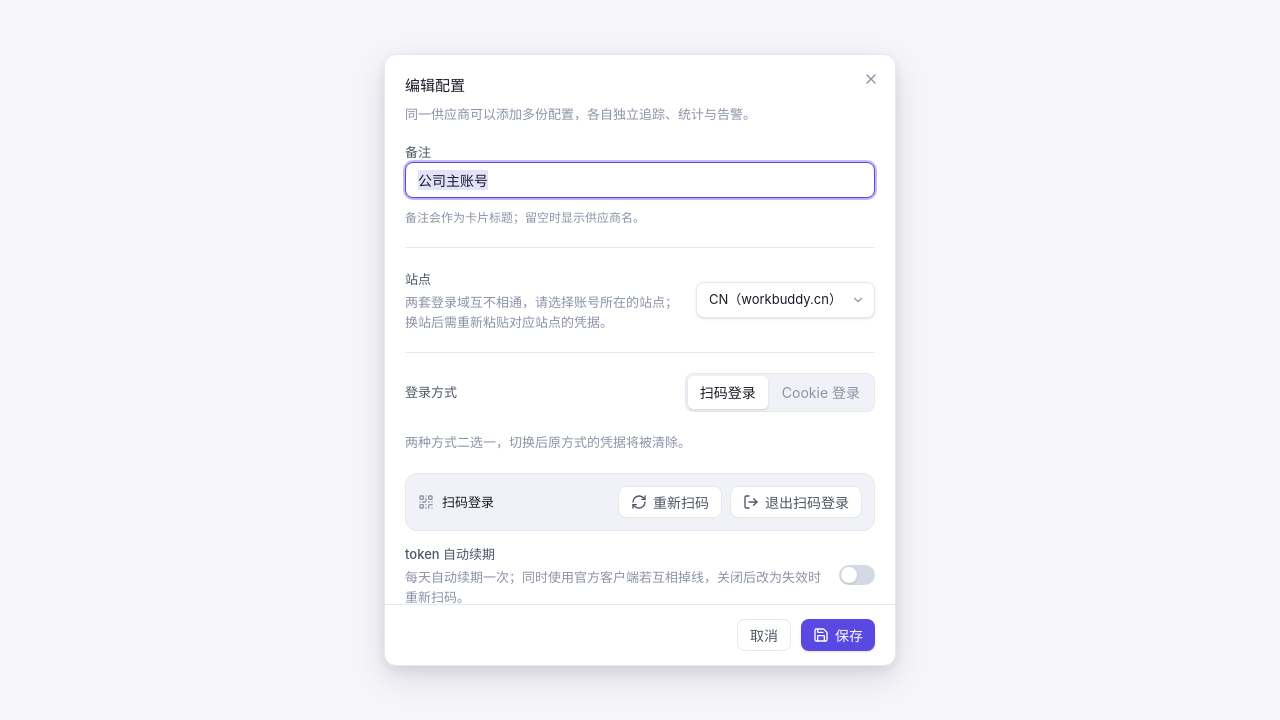
Test: 登录方式互斥（ADR-0035） › 编辑态重新扫码确认：自动认领并显示成功提示，凭据即时生效
Click the button "重新扫码" at coordinates (670, 502), box [618, 486, 722, 518]
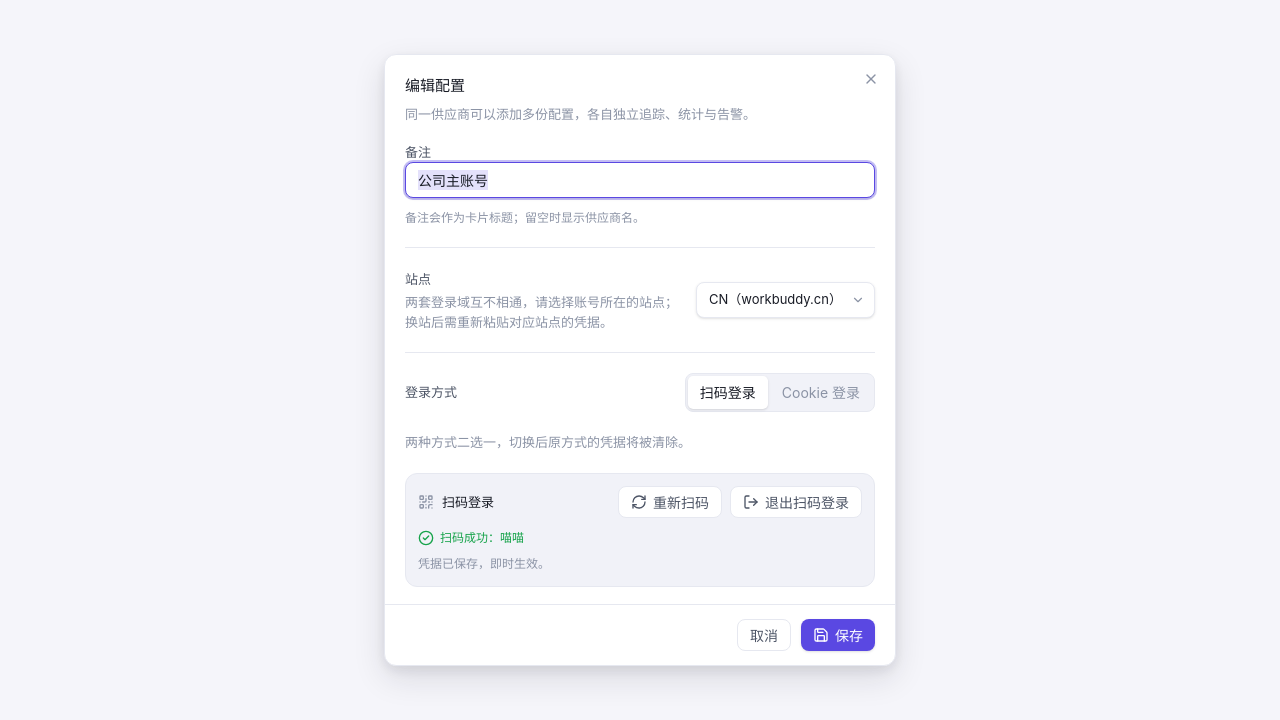
Expected: the text "扫码成功：喵喵" is shown, [418, 530, 524, 546]
